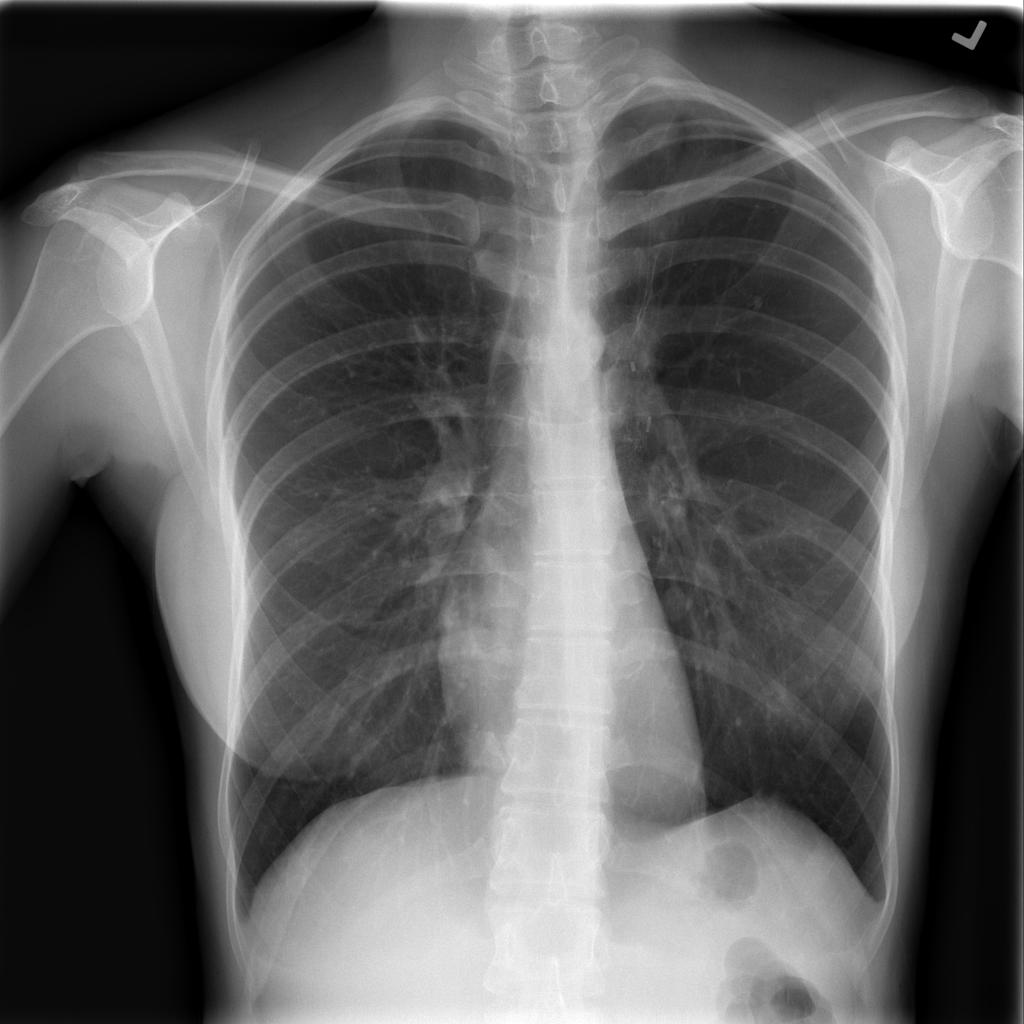nodule: (739, 282, 776, 320)
